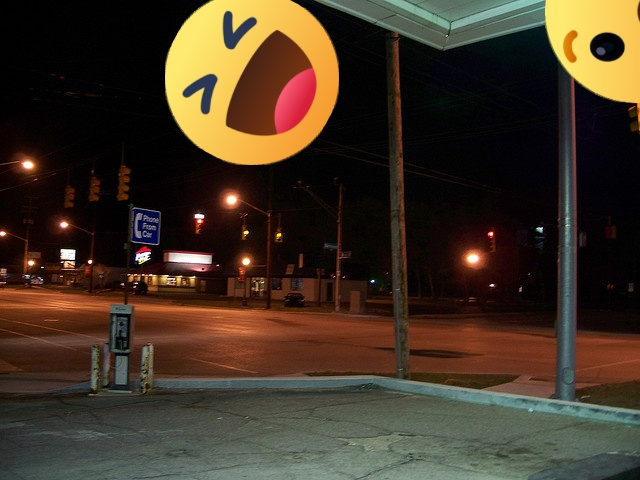haha: (165, 0, 339, 165)
wow: (545, 0, 640, 103)
